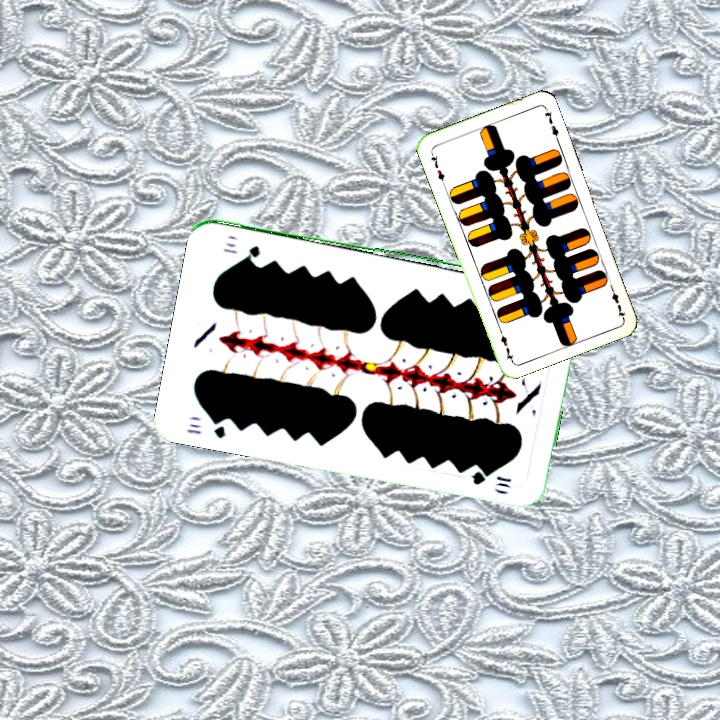E7: (426, 148, 448, 187), (606, 281, 628, 320)
G10: (183, 413, 229, 441)
